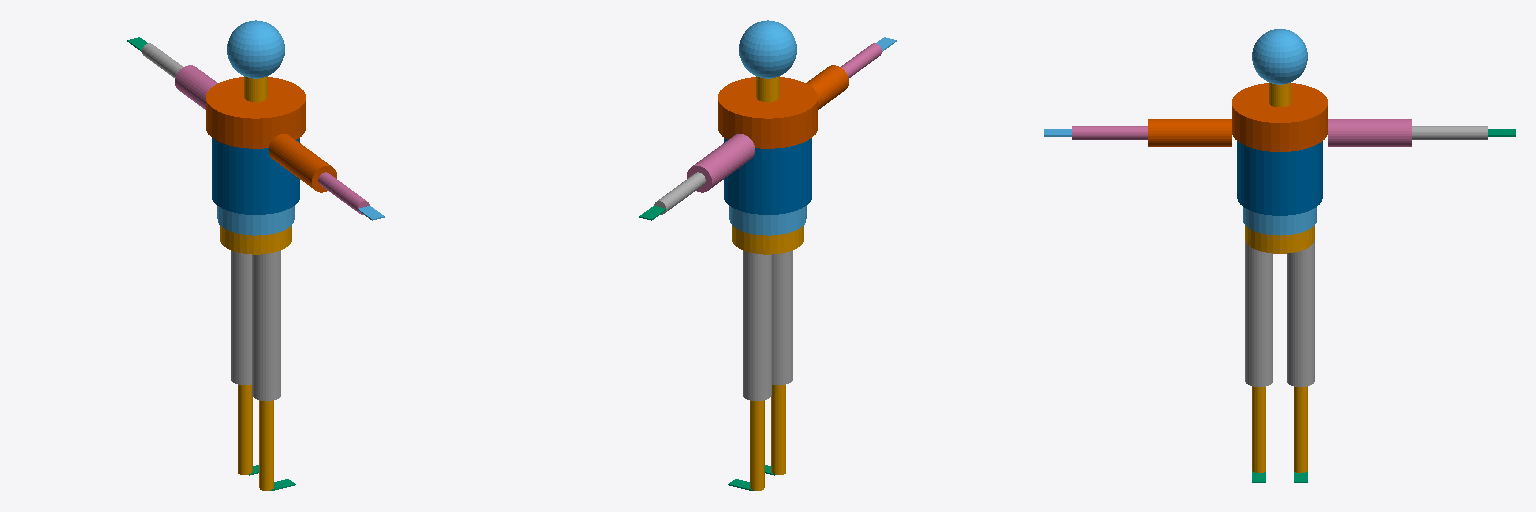
The robot description file, URDF, robot "human_model":
<?xml version="1.0" ?>
<robot name="human_model" xmlns:xacro="http://playerstage.sourceforge.net/gazebo/xmlschema/#interface">
  <link name="human/base">
    <visual>
      <origin rpy="0 0 0" xyz="0 0 -0.0381663382596"/>
      <geometry>
        <cylinder length="-0.0763326765193" radius="0.123896225762"/>
      </geometry>
    </visual>
  </link>
  <link name="human/spine_0">
    <visual>
      <origin rpy="0 0 0" xyz="0 0 0.0434165157024"/>
      <geometry>
        <cylinder length="0.0868330314048" radius="0.132633054012"/>
      </geometry>
    </visual>
  </link>
  <link name="human/spine_1"/>
  <link name="human/spine_2"/>
  <link name="human/spine">
    <visual>
      <origin rpy="0 0 0" xyz="0 0 0.130216921208"/>
      <geometry>
        <cylinder length="0.260433842416" radius="0.152633054012"/>
      </geometry>
    </visual>
  </link>
  <link name="human/shoulder_center">
    <visual>
      <origin rpy="0 0 0" xyz="0 0 0.0571782672125"/>
      <geometry>
        <cylinder length="0.114356534425" radius="0.172633054012"/>
      </geometry>
    </visual>
  </link>
  <link name="human/neck_0"/>
  <link name="human/neck_1"/>
  <link name="human/neck">
    <visual>
      <origin rpy="0 0 0" xyz="0 0 0.090574528493"/>
      <geometry>
        <cylinder length="0.181149056986" radius="0.04"/>
      </geometry>
    </visual>
  </link>
  <link name="human/head">
    <visual>
      <origin rpy="0 0 0" xyz="0 0 0"/>
      <geometry>
        <sphere radius="0.1"/>
      </geometry>
    </visual>
  </link>
  <joint name="hip" type="fixed">
    <origin rpy="0 0 0" xyz="0 0 0"/>
    <parent link="human/base"/>
    <child link="human/spine_0"/>
  </joint>
  <!-- SPINE : spherical -->
  <joint name="spine_0" type="revolute">
    <origin rpy="0 0 0" xyz="0 0 0.0868330314048"/>
    <axis xyz="1 0 0"/>
    <parent link="human/spine_0"/>
    <child link="human/spine_1"/>
    <limit effort="1" lower="-1.57079632679" upper="1.57079632679" velocity="1"/>
  </joint>
  <joint name="spine_1" type="revolute">
    <origin rpy="0 0 0" xyz="0 0 0"/>
    <axis xyz="0 1 0"/>
    <parent link="human/spine_1"/>
    <child link="human/spine_2"/>
    <limit effort="1" lower="-1.57079632679" upper="1.57079632679" velocity="1"/>
  </joint>
  <joint name="spine_2" type="revolute">
    <origin rpy="0 0 0" xyz="0 0 0"/>
    <axis xyz="0 0 1"/>
    <parent link="human/spine_2"/>
    <child link="human/spine"/>
    <limit effort="1" lower="-1.57079632679" upper="1.57079632679" velocity="1"/>
  </joint>
  <joint name="shoulder_center" type="fixed">
    <origin rpy="0 0 0" xyz="0 0 0.260433842416"/>
    <parent link="human/spine"/>
    <child link="human/shoulder_center"/>
  </joint>
  <!-- NECK : spherical -->
  <joint name="neck_0" type="revolute">
    <origin rpy="0 0 0" xyz="0 0 0.114356534425"/>
    <axis xyz="1 0 0"/>
    <parent link="human/shoulder_center"/>
    <child link="human/neck_0"/>
    <limit effort="1" lower="-1.57079632679" upper="1.57079632679" velocity="1"/>
  </joint>
  <joint name="neck_1" type="revolute">
    <origin rpy="0 0 0" xyz="0 0 0"/>
    <axis xyz="0 1 0"/>
    <parent link="human/neck_0"/>
    <child link="human/neck_1"/>
    <limit effort="1" lower="-1.57079632679" upper="1.57079632679" velocity="1"/>
  </joint>
  <joint name="neck_2" type="revolute">
    <origin rpy="0 0 0" xyz="0 0 0"/>
    <axis xyz="0 0 1"/>
    <parent link="human/neck_1"/>
    <child link="human/neck"/>
    <limit effort="1" lower="-1.57079632679" upper="1.57079632679" velocity="1"/>
  </joint>
  <!-- END NECK -->
  <joint name="head" type="fixed">
    <origin rpy="0 0 0" xyz="0 0 0.181149056986"/>
    <parent link="human/neck"/>
    <child link="human/head"/>
  </joint>
  <link name="human/right_arm_mount"/>
  <link name="human/right_shoulder_0"/>
  <link name="human/right_shoulder_1"/>
  <link name="human/right_shoulder">
    <visual>
      <origin rpy="0 1.57079632679 0" xyz="0.149050593572 0 0"/>
      <geometry>
        <cylinder length="0.298101187144" radius="0.05"/>
      </geometry>
    </visual>
  </link>
  <link name="human/right_elbow">
    <visual>
      <origin rpy="0 1.57079632679 0" xyz="0.135157197428 0 0"/>
      <geometry>
        <cylinder length="0.270314394856" radius="0.025"/>
      </geometry>
    </visual>
  </link>
  <link name="human/right_wrist_0"/>
  <link name="human/right_wrist_1"/>
  <link name="human/right_wrist">
    <visual>
      <origin rpy="0 0 0" xyz="0.05 0 0"/>
      <geometry>
        <box size="0.1 0.05 .005"/>
      </geometry>
    </visual>
  </link>
  <link name="human/right_hand"/>
  <!-- Joints -->
  <joint name="right_arm_mount" type="fixed">
    <origin rpy="0 0 -1.57079632679" xyz="0 -0.172633054012 -0.00503493917921"/>
    <parent link="human/shoulder_center"/>
    <child link="human/right_arm_mount"/>
  </joint>
  <!-- SHOULDER : spherical -->
  <joint name="right_shoulder_0" type="revolute">
    <origin rpy="0 0 0" xyz="0 0 0"/>
    <axis xyz="0 1 0"/>
    <parent link="human/right_arm_mount"/>
    <child link="human/right_shoulder_0"/>
    <limit effort="1" lower="-1.57079632679" upper="1.57079632679" velocity="1"/>
  </joint>
  <joint name="right_shoulder_1" type="revolute">
    <origin rpy="0 0 0" xyz="0 0 0"/>
    <axis xyz="0 0 1"/>
    <parent link="human/right_shoulder_0"/>
    <child link="human/right_shoulder_1"/>
    <limit effort="1" lower="-1.57079632679" upper="2.35619449019" velocity="1"/>
  </joint>
  <joint name="right_shoulder_2" type="revolute">
    <origin rpy="0 0 0" xyz="0 0 0"/>
    <axis xyz="1 0 0"/>
    <parent link="human/right_shoulder_1"/>
    <child link="human/right_shoulder"/>
    <limit effort="1" lower="-1.57079632679" upper="1.57079632679" velocity="1"/>
  </joint>
  <!-- END SHOULDER -->
  <joint name="right_elbow_0" type="revolute">
    <origin rpy="0 0 0" xyz="0.298101187144 0 0"/>
    <axis xyz="0 0 1"/>
    <parent link="human/right_shoulder"/>
    <child link="human/right_elbow"/>
    <limit effort="1" lower="0.0" upper="3.14159265359" velocity="1"/>
  </joint>
  <joint name="right_wrist_0" type="revolute">
    <origin rpy="0 0 0" xyz="0.270314394856 0 0"/>
    <axis xyz="0 0 1"/>
    <parent link="human/right_elbow"/>
    <child link="human/right_wrist_0"/>
    <limit effort="1" lower="-0.78539816339" upper="0.78539816339" velocity="1"/>
  </joint>
  <joint name="right_wrist_1" type="revolute">
    <origin rpy="0 0 0" xyz="0 0 0"/>
    <axis xyz="0 1 0"/>
    <parent link="human/right_wrist_0"/>
    <child link="human/right_wrist_1"/>
    <limit effort="1" lower="-1.57079632679" upper="1.57079632679" velocity="1"/>
  </joint>
  <joint name="right_wrist_2" type="revolute">
    <origin rpy="0 0 0" xyz="0 0 0"/>
    <axis xyz="1 0 0"/>
    <parent link="human/right_wrist_1"/>
    <child link="human/right_wrist"/>
    <limit effort="1" lower="-1.57079632679" upper="1.57079632679" velocity="1"/>
  </joint>
  <joint name="right_hand" type="fixed">
    <origin rpy="0 0 0" xyz="0.1 0 0"/>
    <parent link="human/right_wrist"/>
    <child link="human/right_hand"/>
  </joint>
  <link name="human/left_arm_mount"/>
  <link name="human/left_shoulder_0"/>
  <link name="human/left_shoulder_1"/>
  <link name="human/left_shoulder">
    <visual>
      <origin rpy="0 1.57079632679 0" xyz="0.149050593572 0 0"/>
      <geometry>
        <cylinder length="0.298101187144" radius="0.05"/>
      </geometry>
    </visual>
  </link>
  <link name="human/left_elbow">
    <visual>
      <origin rpy="0 1.57079632679 0" xyz="0.135157197428 0 0"/>
      <geometry>
        <cylinder length="0.270314394856" radius="0.025"/>
      </geometry>
    </visual>
  </link>
  <link name="human/left_wrist_0"/>
  <link name="human/left_wrist_1"/>
  <link name="human/left_wrist">
    <visual>
      <origin rpy="0 0 0" xyz="0.05 0 0"/>
      <geometry>
        <box size="0.1 0.05 .005"/>
      </geometry>
    </visual>
  </link>
  <link name="human/left_hand"/>
  <!-- Joints -->
  <joint name="left_arm_mount" type="fixed">
    <origin rpy="0 0 1.57079632679" xyz="0 0.172633054012 -0.00503493917921"/>
    <parent link="human/shoulder_center"/>
    <child link="human/left_arm_mount"/>
  </joint>
  <!-- SHOULDER : spherical -->
  <joint name="left_shoulder_0" type="revolute">
    <origin rpy="0 0 0" xyz="0 0 0"/>
    <axis xyz="0 1 0"/>
    <parent link="human/left_arm_mount"/>
    <child link="human/left_shoulder_0"/>
    <limit effort="1" lower="-1.57079632679" upper="1.57079632679" velocity="1"/>
  </joint>
  <joint name="left_shoulder_1" type="revolute">
    <origin rpy="0 0 0" xyz="0 0 0"/>
    <axis xyz="0 0 1"/>
    <parent link="human/left_shoulder_0"/>
    <child link="human/left_shoulder_1"/>
    <limit effort="1" lower="-2.35619449019" upper="1.57079632679" velocity="1"/>
  </joint>
  <joint name="left_shoulder_2" type="revolute">
    <origin rpy="0 0 0" xyz="0 0 0"/>
    <axis xyz="1 0 0"/>
    <parent link="human/left_shoulder_1"/>
    <child link="human/left_shoulder"/>
    <limit effort="1" lower="-1.57079632679" upper="1.57079632679" velocity="1"/>
  </joint>
  <!-- END SHOULDER -->
  <joint name="left_elbow_0" type="revolute">
    <origin rpy="0 0 0" xyz="0.298101187144 0 0"/>
    <axis xyz="0 0 1"/>
    <parent link="human/left_shoulder"/>
    <child link="human/left_elbow"/>
    <limit effort="1" lower="-3.14159265359" upper="0.0" velocity="1"/>
  </joint>
  <joint name="left_wrist_0" type="revolute">
    <origin rpy="0 0 0" xyz="0.270314394856 0 0"/>
    <axis xyz="0 0 1"/>
    <parent link="human/left_elbow"/>
    <child link="human/left_wrist_0"/>
    <limit effort="1" lower="-0.78539816339" upper="0.78539816339" velocity="1"/>
  </joint>
  <joint name="left_wrist_1" type="revolute">
    <origin rpy="0 0 0" xyz="0 0 0"/>
    <axis xyz="0 1 0"/>
    <parent link="human/left_wrist_0"/>
    <child link="human/left_wrist_1"/>
    <limit effort="1" lower="-1.57079632679" upper="1.57079632679" velocity="1"/>
  </joint>
  <joint name="left_wrist_2" type="revolute">
    <origin rpy="0 0 0" xyz="0 0 0"/>
    <axis xyz="1 0 0"/>
    <parent link="human/left_wrist_1"/>
    <child link="human/left_wrist"/>
    <limit effort="1" lower="-1.57079632679" upper="1.57079632679" velocity="1"/>
  </joint>
  <joint name="left_hand" type="fixed">
    <origin rpy="0 0 0" xyz="0.1 0 0"/>
    <parent link="human/left_wrist"/>
    <child link="human/left_hand"/>
  </joint>
  <link name="human/right_leg_mount"/>
  <link name="human/right_hip_0"/>
  <link name="human/right_hip_1"/>
  <link name="human/right_hip">
    <visual>
      <origin rpy="0 1.57079632679 0" xyz="0.279809900303 0 0"/>
      <geometry>
        <cylinder length="0.559619800605" radius="0.05"/>
      </geometry>
    </visual>
  </link>
  <link name="human/right_knee">
    <visual>
      <origin rpy="0 1.57079632679 0" xyz="0.176477203149 0 0"/>
      <geometry>
        <cylinder length="0.352954406299" radius="0.025"/>
      </geometry>
    </visual>
  </link>
  <link name="human/right_ankle_0"/>
  <link name="human/right_ankle">
    <visual>
      <origin rpy="0 0 0" xyz="0.05 0 0"/>
      <geometry>
        <box size="0.1 0.05 .005"/>
      </geometry>
    </visual>
  </link>
  <link name="human/right_foot"/>
  <!-- Joints -->
  <joint name="right_hip_leg_mount" type="fixed">
    <origin rpy="0 1.57079632679 0" xyz="0 -0.0738962257622 -0.0763326765193"/>
    <parent link="human/base"/>
    <child link="human/right_leg_mount"/>
  </joint>
  <!-- hip : spherical -->
  <joint name="right_hip_0" type="revolute">
    <origin rpy="0 0 0" xyz="0 0 0"/>
    <axis xyz="0 0 1"/>
    <parent link="human/right_leg_mount"/>
    <child link="human/right_hip_0"/>
    <limit effort="1" lower="-1.57079632679" upper="1.57079632679" velocity="1"/>
  </joint>
  <joint name="right_hip_1" type="revolute">
    <origin rpy="0 0 0" xyz="0 0 0"/>
    <axis xyz="0 1 0"/>
    <parent link="human/right_hip_0"/>
    <child link="human/right_hip_1"/>
    <limit effort="1" lower="-1.57079632679" upper="1.57079632679" velocity="1"/>
  </joint>
  <joint name="right_hip_2" type="revolute">
    <origin rpy="0 0 0" xyz="0 0 0"/>
    <axis xyz="1 0 0"/>
    <parent link="human/right_hip_1"/>
    <child link="human/right_hip"/>
    <limit effort="1" lower="-1.57079632679" upper="1.57079632679" velocity="1"/>
  </joint>
  <!-- END hip -->
  <joint name="right_knee_0" type="revolute">
    <origin rpy="1.57079632679 0 0" xyz="0.559619800605 0 0"/>
    <axis xyz="0 0 1"/>
    <parent link="human/right_hip"/>
    <child link="human/right_knee"/>
    <limit effort="1" lower="-3.14159265359" upper="0.1" velocity="1"/>
  </joint>
  <!-- ankle : spherical -->
  <joint name="right_ankle_0" type="revolute">
    <origin rpy="-1.57079632679 0 1.57079632679" xyz="0.352954406299 0 0"/>
    <axis xyz="0 0 1"/>
    <parent link="human/right_knee"/>
    <child link="human/right_ankle_0"/>
    <limit effort="1" lower="-1.57079632679" upper="1.57079632679" velocity="1"/>
  </joint>
  <joint name="right_ankle_1" type="revolute">
    <origin rpy="0 0 0" xyz="0 0 0"/>
    <axis xyz="0 1 0"/>
    <parent link="human/right_ankle_0"/>
    <child link="human/right_ankle"/>
    <limit effort="1" lower="-1.57079632679" upper="1.57079632679" velocity="1"/>
  </joint>
  <!-- END ankle -->
  <joint name="right_foot" type="fixed">
    <origin rpy="0 0 0" xyz="0.1 0 0"/>
    <parent link="human/right_ankle"/>
    <child link="human/right_foot"/>
  </joint>
  <link name="human/left_leg_mount"/>
  <link name="human/left_hip_0"/>
  <link name="human/left_hip_1"/>
  <link name="human/left_hip">
    <visual>
      <origin rpy="0 1.57079632679 0" xyz="0.279809900303 0 0"/>
      <geometry>
        <cylinder length="0.559619800605" radius="0.05"/>
      </geometry>
    </visual>
  </link>
  <link name="human/left_knee">
    <visual>
      <origin rpy="0 1.57079632679 0" xyz="0.176477203149 0 0"/>
      <geometry>
        <cylinder length="0.352954406299" radius="0.025"/>
      </geometry>
    </visual>
  </link>
  <link name="human/left_ankle_0"/>
  <link name="human/left_ankle">
    <visual>
      <origin rpy="0 0 0" xyz="0.05 0 0"/>
      <geometry>
        <box size="0.1 0.05 .005"/>
      </geometry>
    </visual>
  </link>
  <link name="human/left_foot"/>
  <!-- Joints -->
  <joint name="left_hip_leg_mount" type="fixed">
    <origin rpy="0 1.57079632679 0" xyz="0 0.0738962257622 -0.0763326765193"/>
    <parent link="human/base"/>
    <child link="human/left_leg_mount"/>
  </joint>
  <!-- hip : spherical -->
  <joint name="left_hip_0" type="revolute">
    <origin rpy="0 0 0" xyz="0 0 0"/>
    <axis xyz="0 0 1"/>
    <parent link="human/left_leg_mount"/>
    <child link="human/left_hip_0"/>
    <limit effort="1" lower="-1.57079632679" upper="1.57079632679" velocity="1"/>
  </joint>
  <joint name="left_hip_1" type="revolute">
    <origin rpy="0 0 0" xyz="0 0 0"/>
    <axis xyz="0 1 0"/>
    <parent link="human/left_hip_0"/>
    <child link="human/left_hip_1"/>
    <limit effort="1" lower="-1.57079632679" upper="1.57079632679" velocity="1"/>
  </joint>
  <joint name="left_hip_2" type="revolute">
    <origin rpy="0 0 0" xyz="0 0 0"/>
    <axis xyz="1 0 0"/>
    <parent link="human/left_hip_1"/>
    <child link="human/left_hip"/>
    <limit effort="1" lower="-1.57079632679" upper="1.57079632679" velocity="1"/>
  </joint>
  <!-- END hip -->
  <joint name="left_knee_0" type="revolute">
    <origin rpy="1.57079632679 0 0" xyz="0.559619800605 0 0"/>
    <axis xyz="0 0 1"/>
    <parent link="human/left_hip"/>
    <child link="human/left_knee"/>
    <limit effort="1" lower="-3.14159265359" upper="0.1" velocity="1"/>
  </joint>
  <!-- ankle : spherical -->
  <joint name="left_ankle_0" type="revolute">
    <origin rpy="-1.57079632679 0 1.57079632679" xyz="0.352954406299 0 0"/>
    <axis xyz="0 0 1"/>
    <parent link="human/left_knee"/>
    <child link="human/left_ankle_0"/>
    <limit effort="1" lower="-1.57079632679" upper="1.57079632679" velocity="1"/>
  </joint>
  <joint name="left_ankle_1" type="revolute">
    <origin rpy="0 0 0" xyz="0 0 0"/>
    <axis xyz="0 1 0"/>
    <parent link="human/left_ankle_0"/>
    <child link="human/left_ankle"/>
    <limit effort="1" lower="-1.57079632679" upper="1.57079632679" velocity="1"/>
  </joint>
  <!-- END ankle -->
  <joint name="left_foot" type="fixed">
    <origin rpy="0 0 0" xyz="0.1 0 0"/>
    <parent link="human/left_ankle"/>
    <child link="human/left_foot"/>
  </joint>
</robot>

--- What the picture shows (computed from the rendered views, not written in the file) ---
The picture shows the robot from 3 angles, left to right: view 1: azimuth 30°, elevation 25°; view 2: azimuth 150°, elevation 25°; view 3: azimuth 270°, elevation 25°; orthographic projection.
Robot: human_model — 44 links, 43 joints (32 revolute, 11 fixed); root link human/base; default pose: all joints at 0.
Links seen in each view (by area): view 1: human/shoulder_center, human/spine, human/right_hip, human/left_hip, human/head, human/right_shoulder, human/spine_0, human/base, human/right_knee, human/left_knee, human/left_shoulder, human/right_elbow (+2 smaller); view 2: human/shoulder_center, human/spine, human/left_hip, human/right_hip, human/head, human/left_shoulder, human/spine_0, human/base, human/left_knee, human/right_knee, human/right_shoulder, human/left_elbow (+2 smaller); view 3: human/spine, human/shoulder_center, human/right_hip, human/left_hip, human/head, human/right_shoulder, human/left_shoulder, human/spine_0, human/base, human/right_knee, human/left_knee, human/right_elbow (+1 smaller).
Link boxes in pixels (x1,y1,x2,y2): human/shoulder_center: [206, 77, 305, 148]; human/spine: [212, 138, 299, 214]; human/right_hip: [252, 251, 280, 400]; human/left_hip: [231, 251, 251, 384]; human/head: [227, 20, 284, 78]; human/right_shoulder: [269, 134, 336, 192]; human/spine_0: [217, 206, 294, 235]; human/base: [220, 226, 291, 254]; human/right_knee: [259, 400, 273, 490]; human/left_knee: [238, 385, 252, 474]; human/left_shoulder: [175, 65, 217, 109]; human/right_elbow: [318, 172, 369, 214]; human/shoulder_center: [718, 77, 817, 148]; human/spine: [724, 138, 811, 214]; human/left_hip: [743, 251, 771, 400]; human/right_hip: [772, 251, 792, 384]; human/head: [739, 20, 796, 78]; human/left_shoulder: [687, 134, 754, 192]; human/spine_0: [729, 206, 806, 235]; human/base: [732, 226, 803, 254]; human/left_knee: [750, 400, 764, 490]; human/right_knee: [771, 385, 785, 474]; human/right_shoulder: [806, 65, 848, 109]; human/left_elbow: [654, 172, 705, 214]; human/spine: [1237, 141, 1322, 215]; human/shoulder_center: [1232, 83, 1327, 151]; human/right_hip: [1245, 240, 1272, 386]; human/left_hip: [1287, 240, 1314, 386]; human/head: [1252, 29, 1307, 84]; human/right_shoulder: [1148, 119, 1231, 146]; human/left_shoulder: [1328, 119, 1411, 146]; human/spine_0: [1243, 207, 1316, 235]; human/base: [1245, 226, 1314, 253]; human/right_knee: [1252, 386, 1265, 472]; human/left_knee: [1294, 386, 1307, 472]; human/right_elbow: [1072, 126, 1147, 139].
Size in the robot's own frame: 0.3453 by 1.68 by 1.73 metres.
Geometry: primitives only (box / cylinder / sphere), no mesh files.